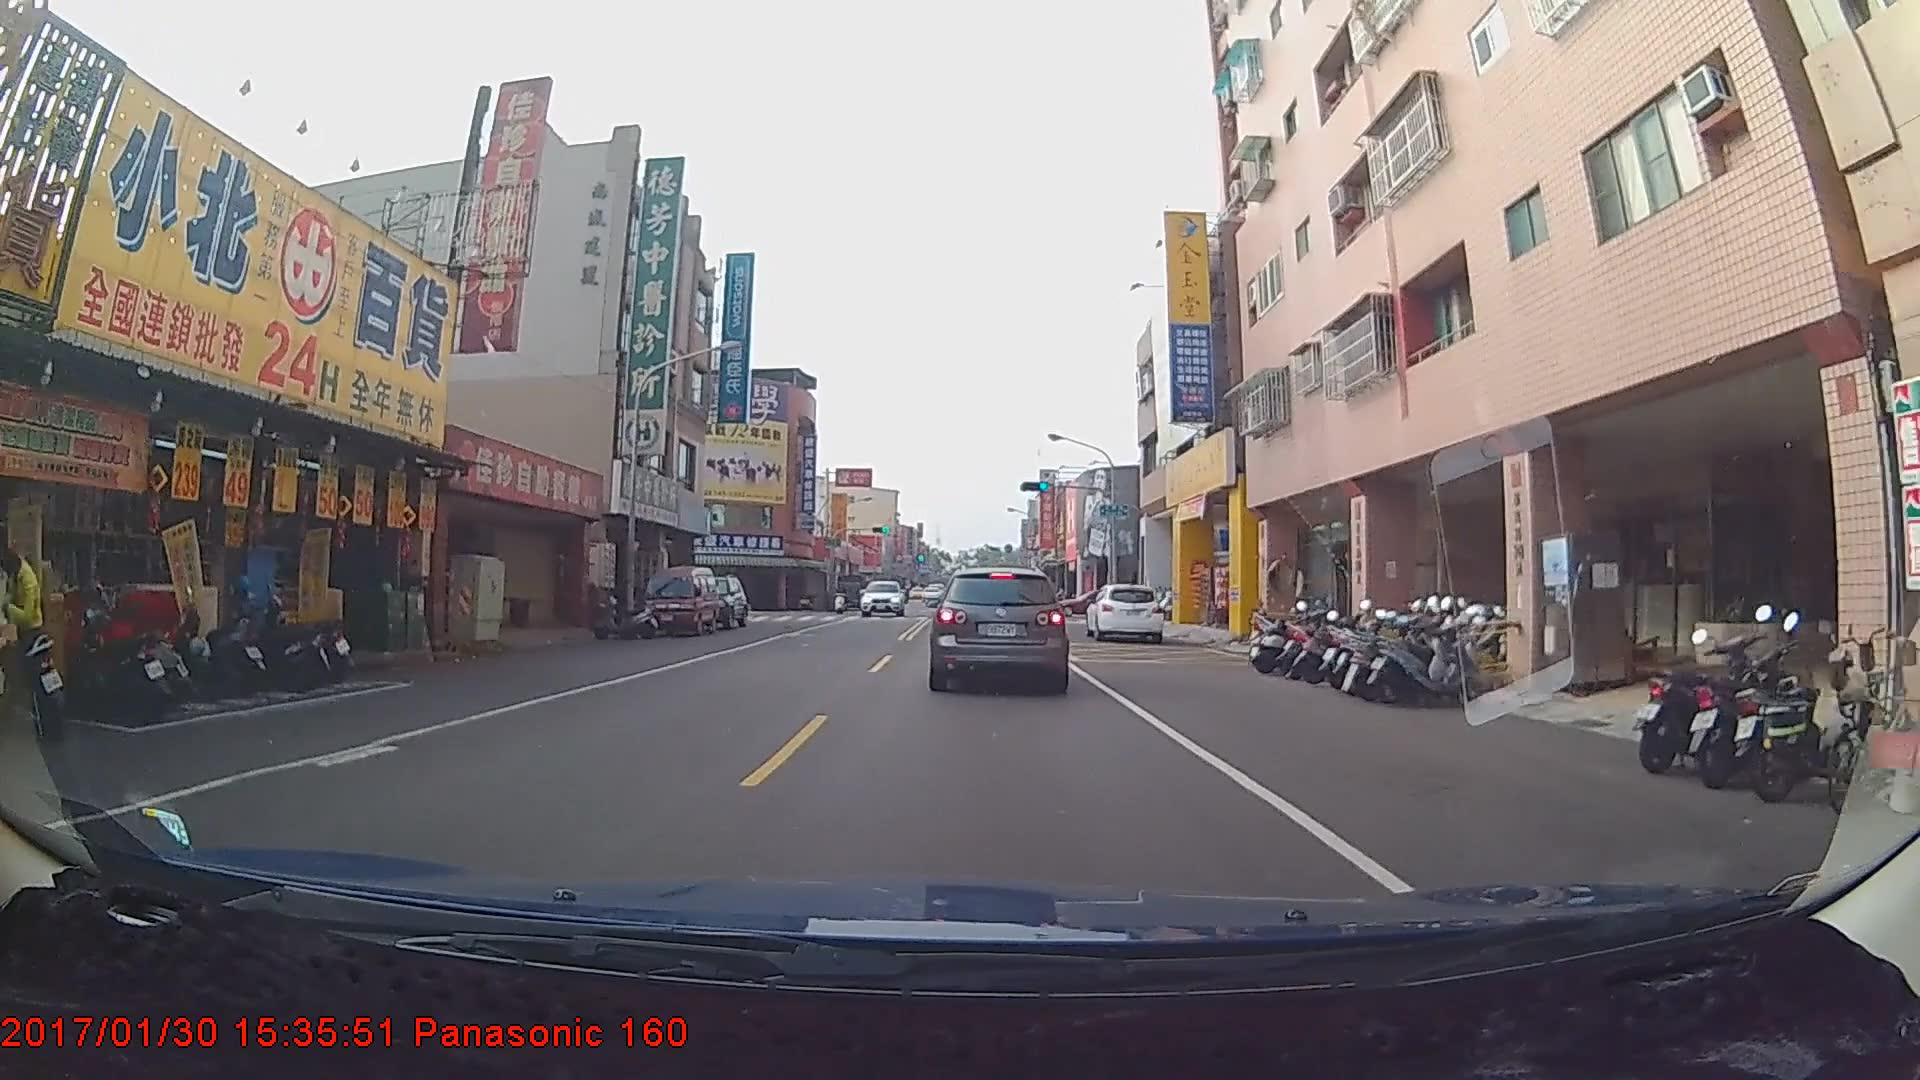pedestrian: (0, 541, 50, 736)
vehicle: (930, 563, 1068, 690), (638, 568, 719, 638), (1085, 582, 1164, 644), (682, 571, 752, 628), (859, 575, 894, 606)
